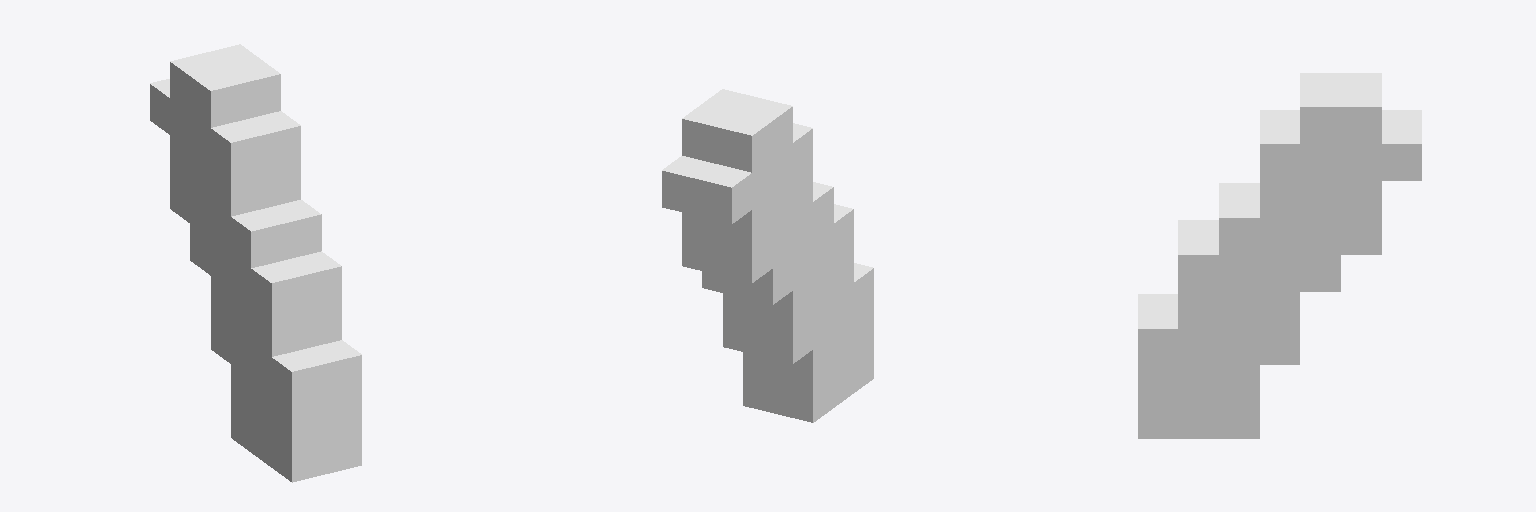
Rendered from bombeman-2-legr.obj.
3 views of the same model, side by side, from view 1: azimuth 30°, elevation 25°; view 2: azimuth 150°, elevation 25°; view 3: azimuth 270°, elevation 25° (orthographic).
Visible parts, largest first — view 1: legr; view 2: legr; view 3: legr.
Part boxes in pixels (left/top/right/bottom): legr: left=150, top=44, right=361, bottom=482; legr: left=662, top=89, right=873, bottom=422; legr: left=1138, top=73, right=1421, bottom=438.
Size of the model in its own units: 0.2 by 0.9 by 0.7.